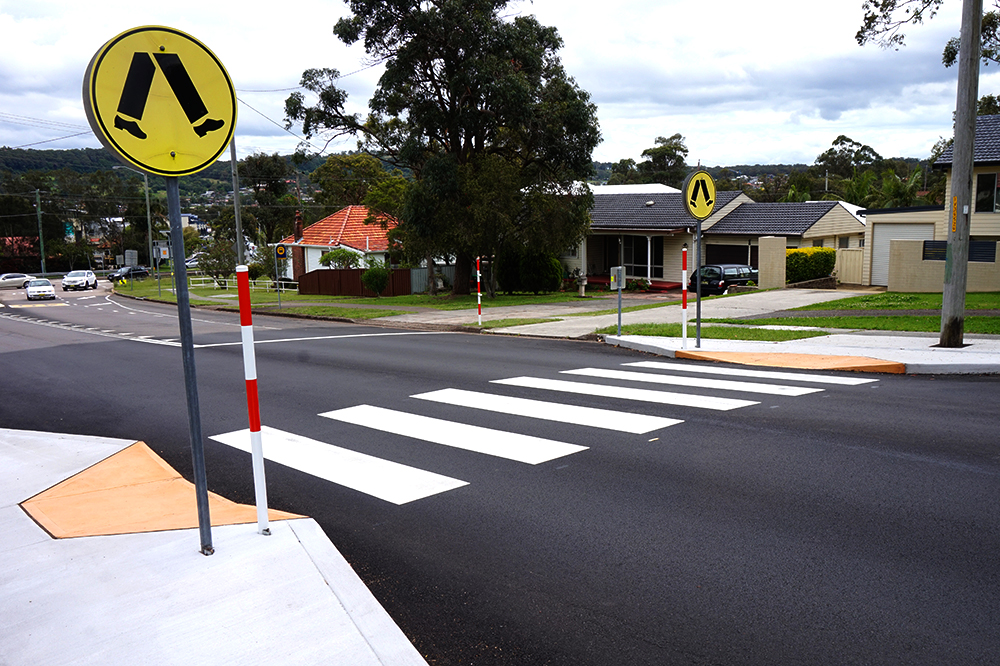Car: (60, 265, 101, 292), (23, 279, 64, 303)
Crosswalk: (263, 357, 863, 471)
Tree: (282, 2, 590, 332)
